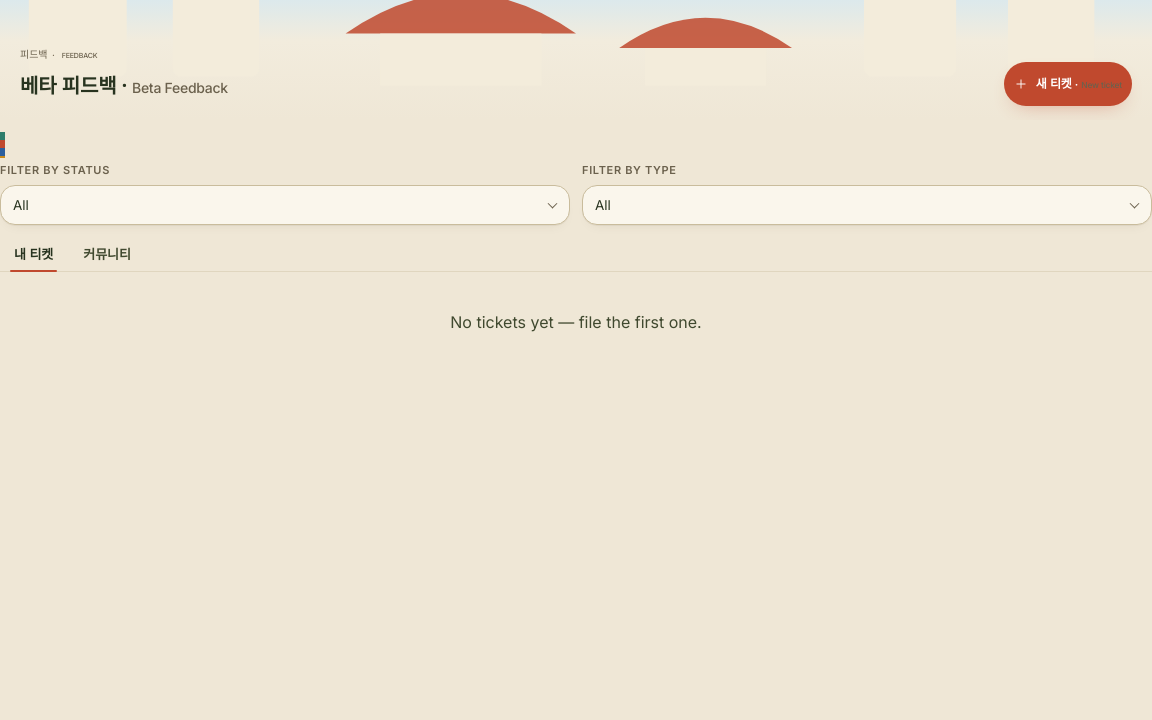
Tickets — filing a ticket › a failed submit keeps the typed values so Retry resends the same payload
Expected: the text "No tickets yet — file the first one." is shown, [450,312,702,332]
Click the button "새 티켓 · New ticket". click: (1068, 84)
box: [1004,62,1132,106]
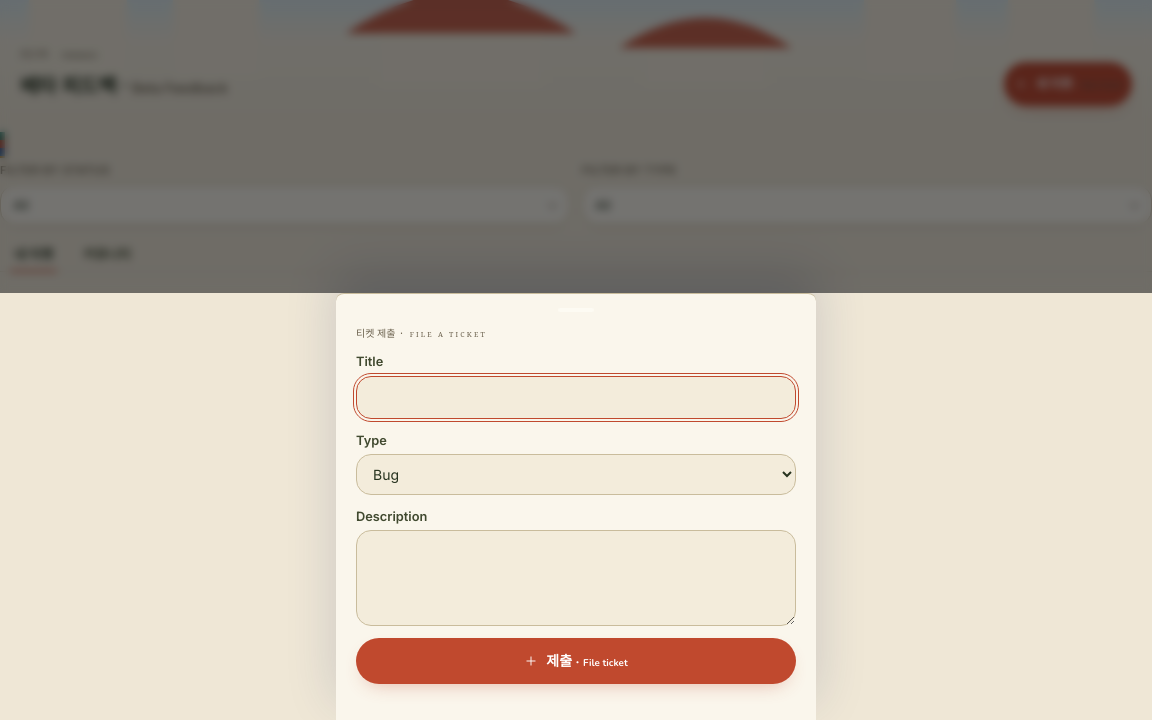
Type "Crash on launch" into the field labelled "Title". click: (576, 397)
box: [356,376,796,419]
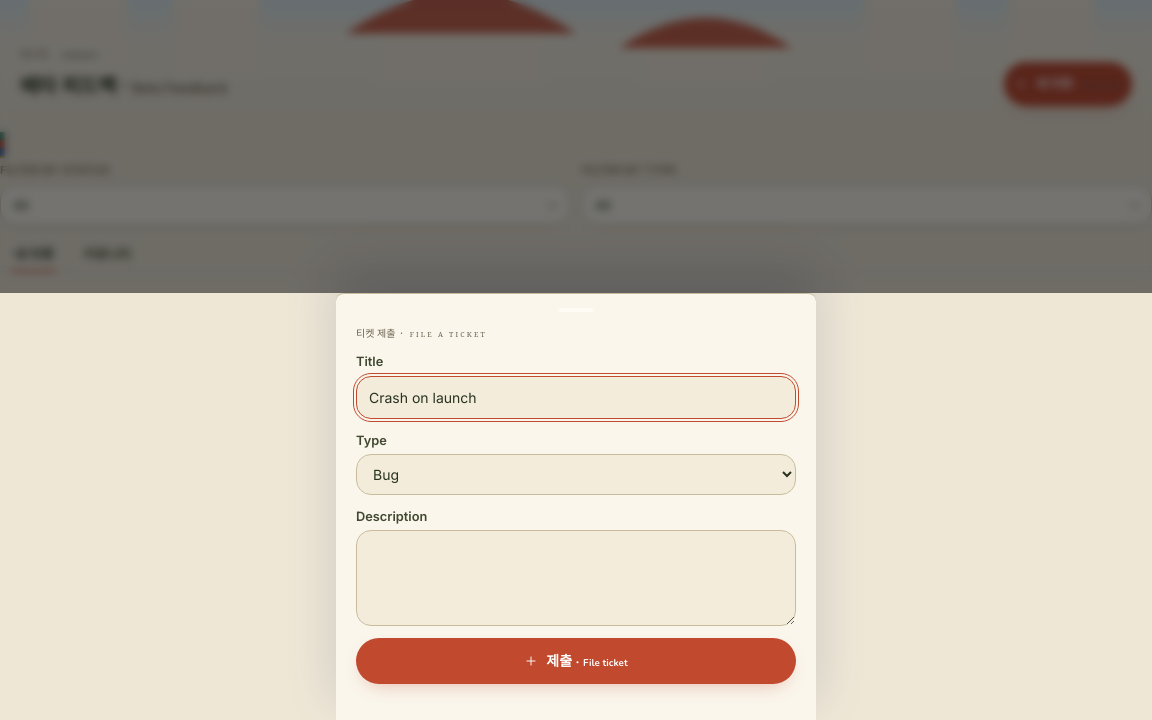
Type "App crashes immediately on a cold start." into the text box labelled "Description". click: (576, 578)
box: [356,530,796,626]
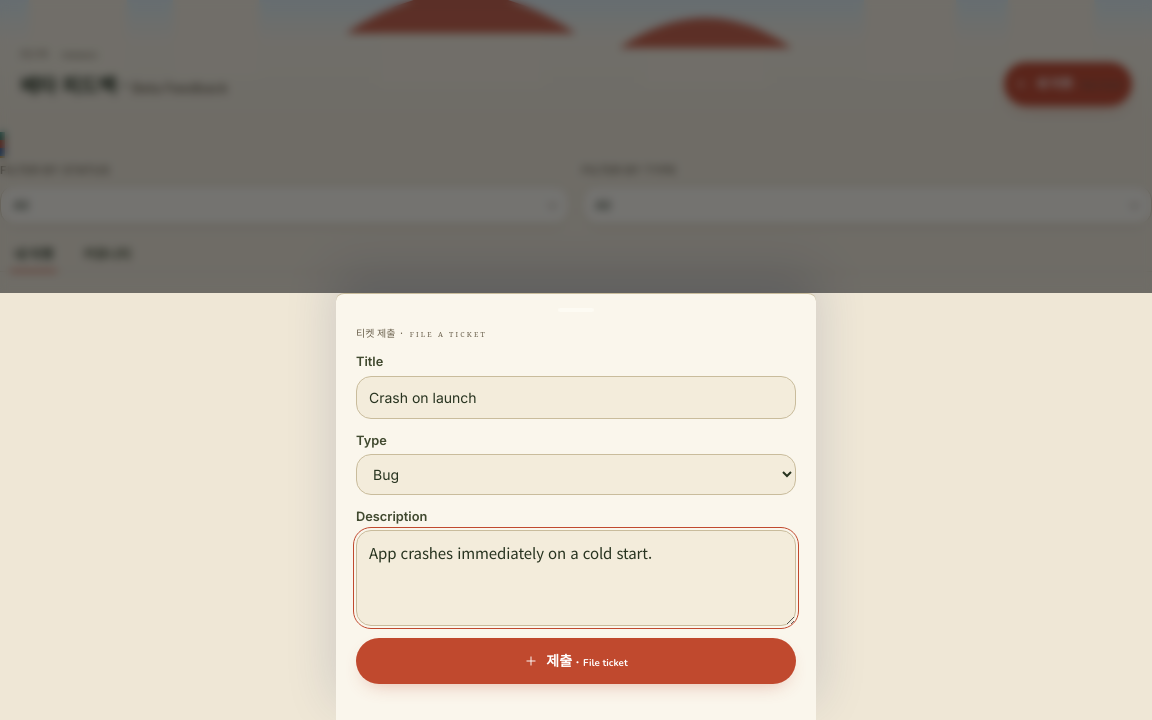
Click the button "제출 · File ticket". click: (576, 661)
box: [356,638,796,684]
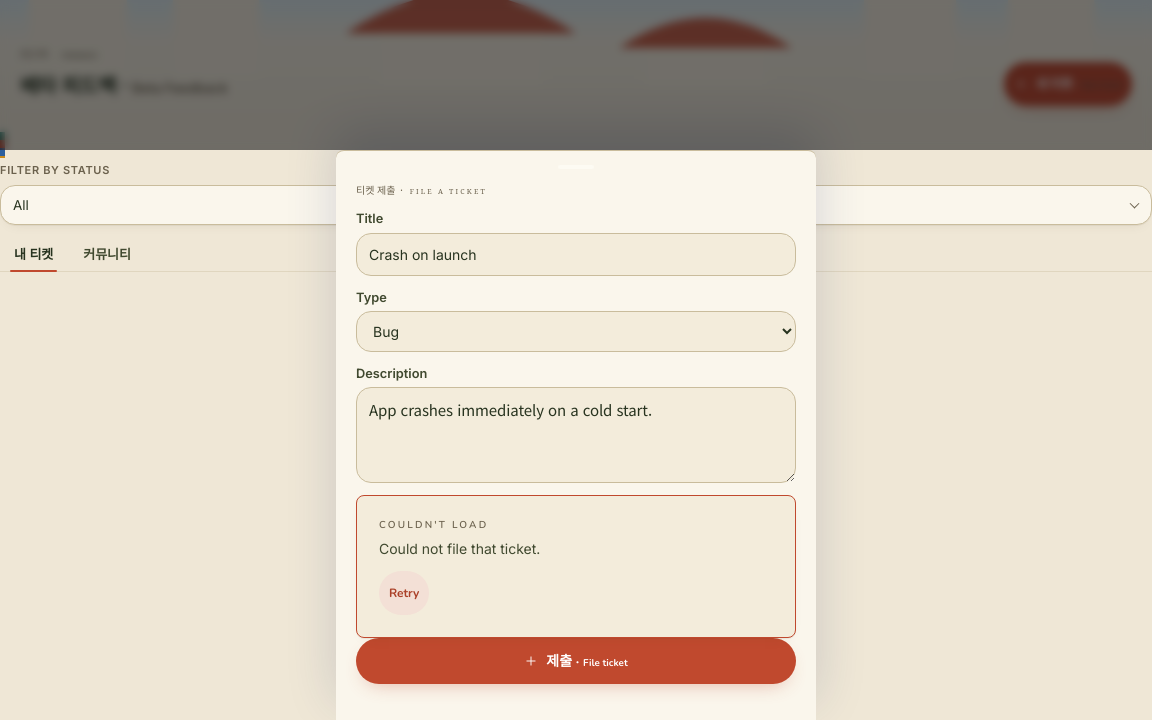
Now the text "Could not file that ticket." is shown, box [379,540,540,557]
Click the button "Retry". click: (404, 593)
box: [379,571,429,615]
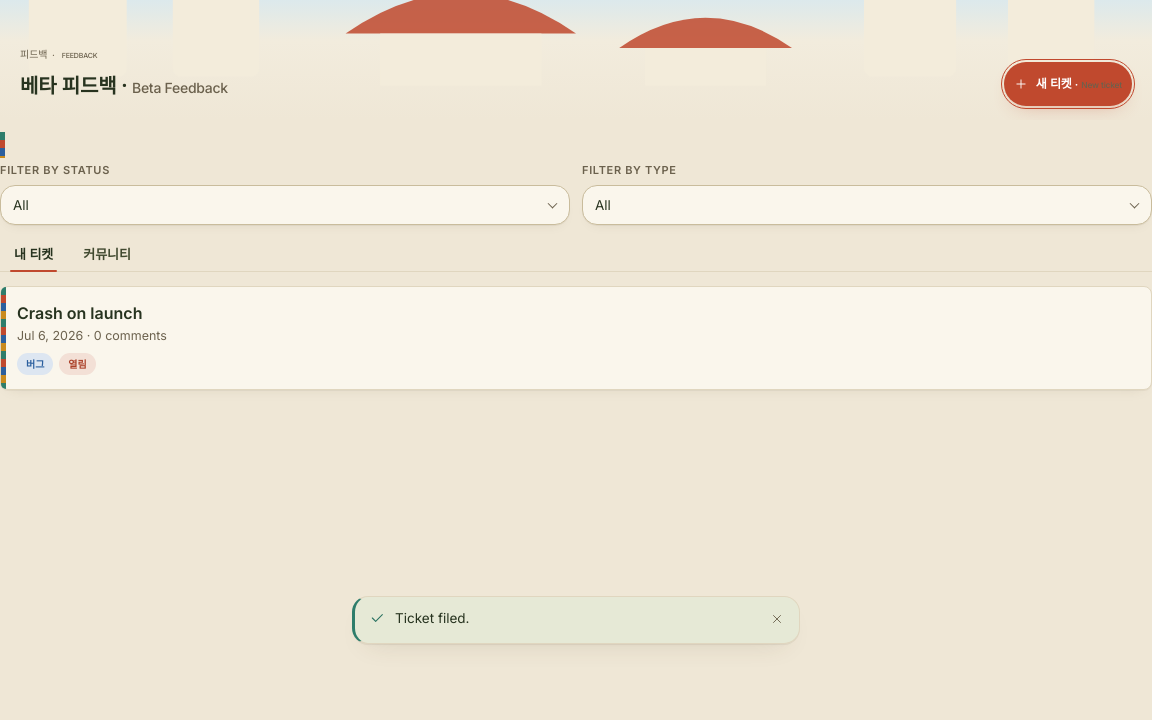
Now the text "Crash on launch" is shown, box [17,303,142,323]
